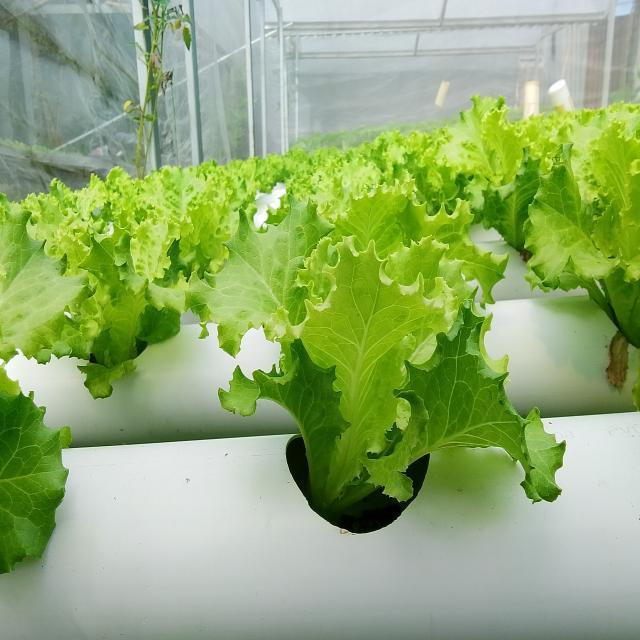Baby: (191, 184, 565, 532)
